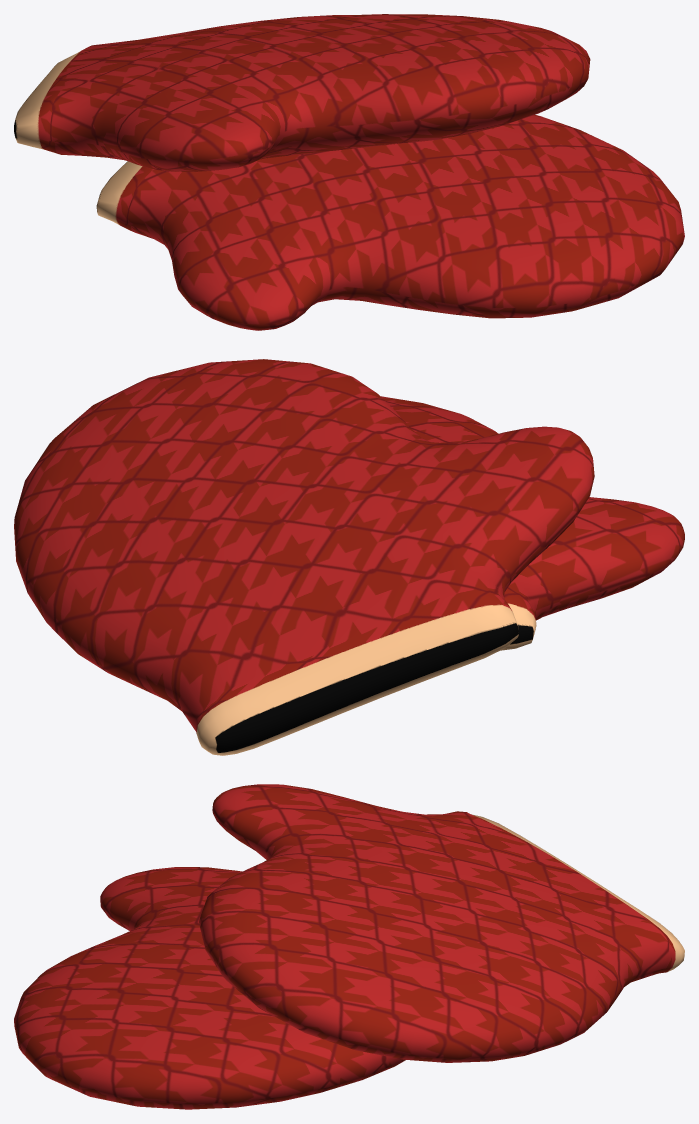
File: SM_OvenMitts.fbx
3 views of the same model, one above another, from view 1: azimuth 30°, elevation 25°; view 2: azimuth 150°, elevation 25°; view 3: azimuth 270°, elevation 25° (orthographic). The views are drawn at different scales.
Visible parts, largest first — view 1: Oven_Mitts, Oven_Mitts1; view 2: Oven_Mitts1, Oven_Mitts; view 3: Oven_Mitts1, Oven_Mitts.
Boxes of the visible parts, box(x1,y1,x2,y2) form: Oven_Mitts: box(96, 115, 684, 330); Oven_Mitts1: box(14, 14, 590, 171); Oven_Mitts1: box(14, 359, 594, 755); Oven_Mitts: box(381, 396, 684, 650); Oven_Mitts1: box(199, 784, 684, 1062); Oven_Mitts: box(14, 867, 405, 1109).
Size of the model in its own units: 3705 by 1259 by 4693.
1 material, 1 textured.
